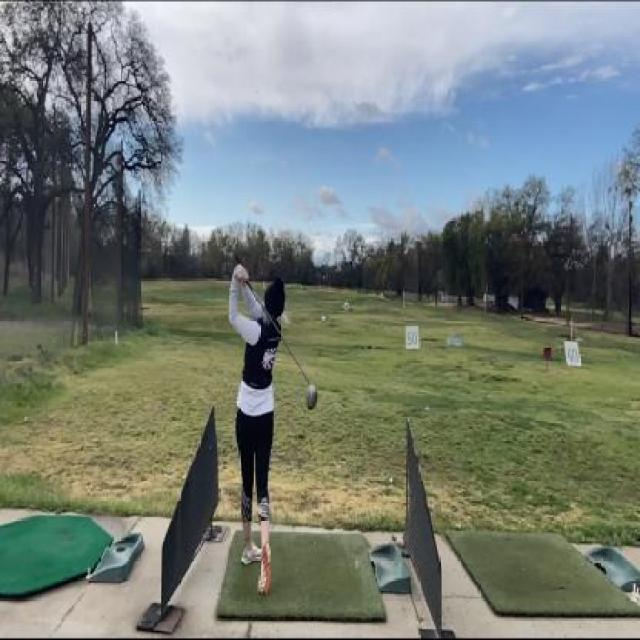club head: (304, 376, 318, 415)
